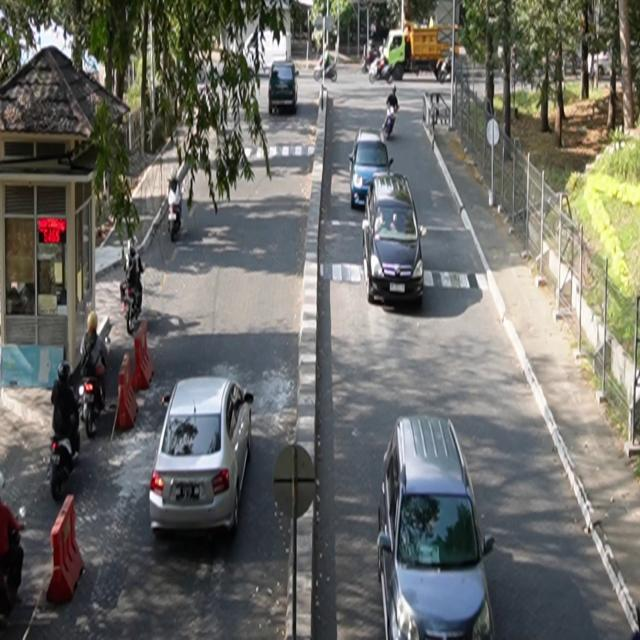car: (378, 415, 497, 640), (150, 375, 254, 538), (362, 172, 426, 306), (349, 129, 394, 211), (269, 61, 299, 115)
truck: (382, 18, 460, 83)
